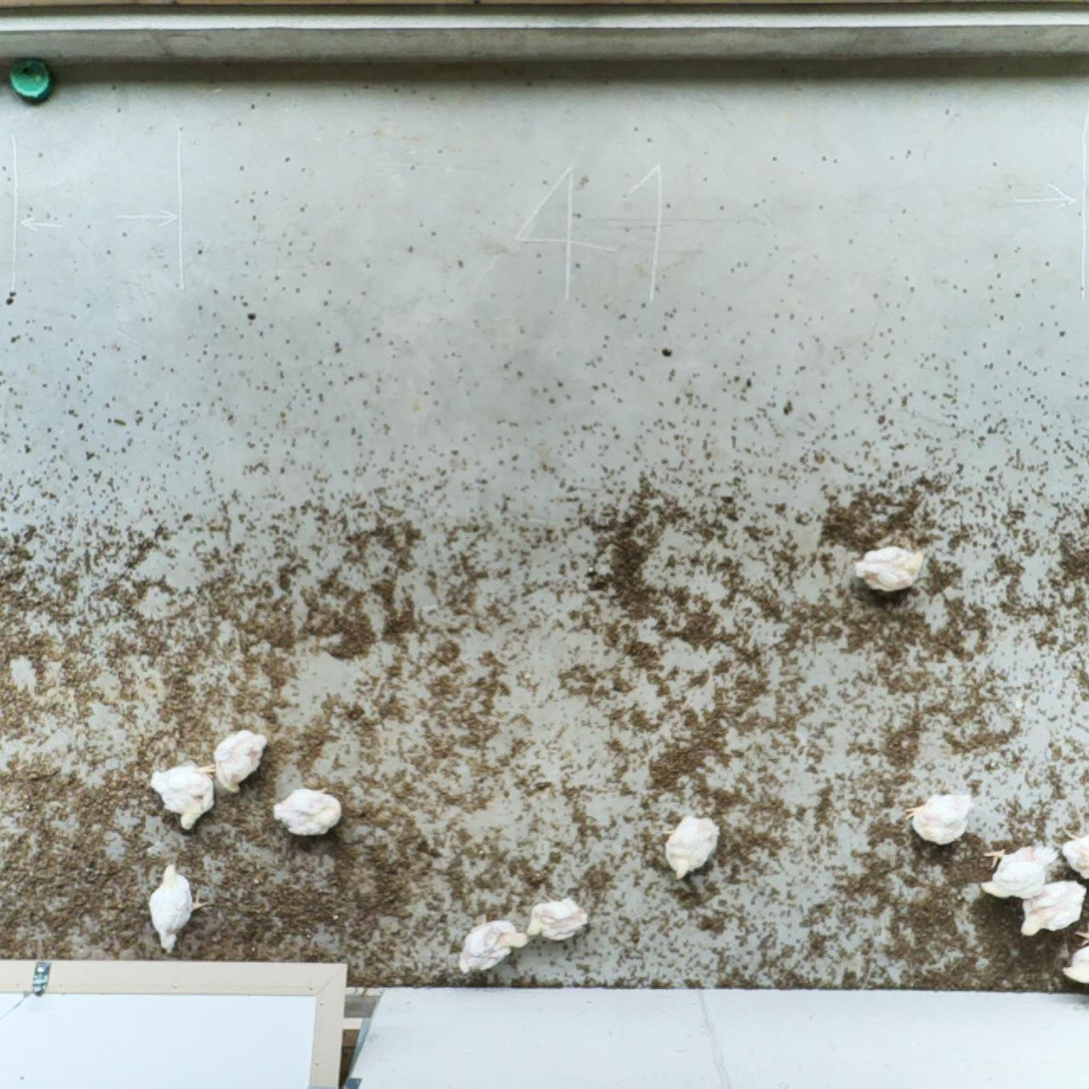chicken: (146, 861, 211, 954), (979, 839, 1066, 902), (147, 757, 220, 832), (455, 914, 529, 977), (901, 789, 980, 848), (661, 811, 723, 883), (271, 784, 346, 841), (210, 725, 269, 796), (1018, 878, 1087, 938), (851, 542, 925, 597), (523, 891, 589, 946), (1055, 824, 1089, 890), (1061, 926, 1089, 989)
